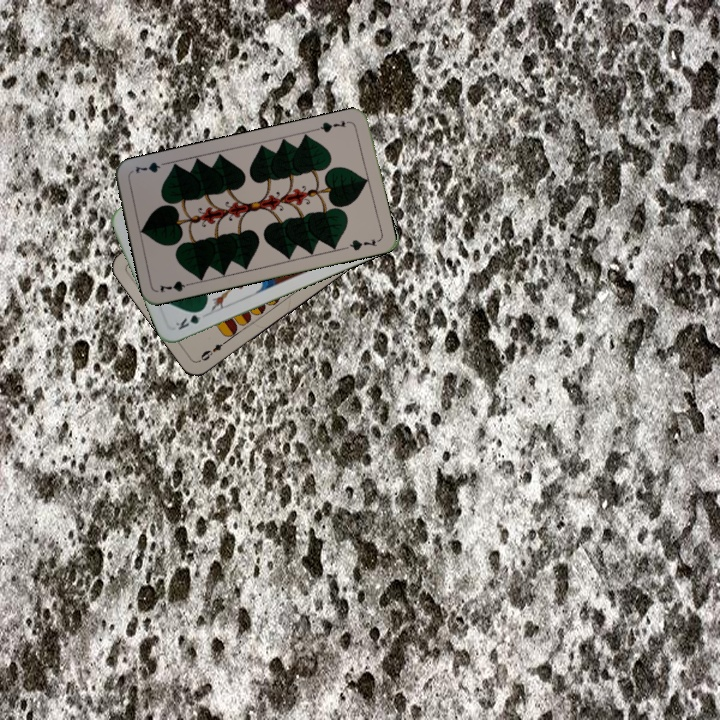E9: (196, 335, 231, 363)
G7: (313, 116, 353, 135), (156, 277, 196, 295)
GK: (171, 305, 207, 333)
